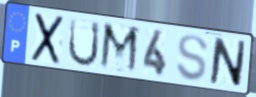4: (141, 28, 169, 79)
M: (97, 20, 142, 77)
N: (208, 35, 248, 89)
S: (174, 33, 210, 83)
U: (66, 16, 102, 68)
X: (29, 11, 66, 67)
